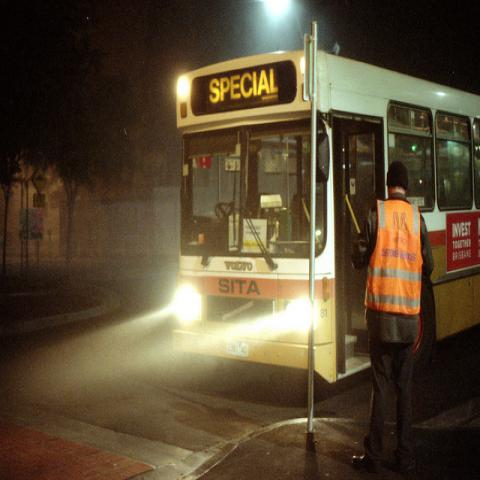bus: (166, 51, 476, 383)
